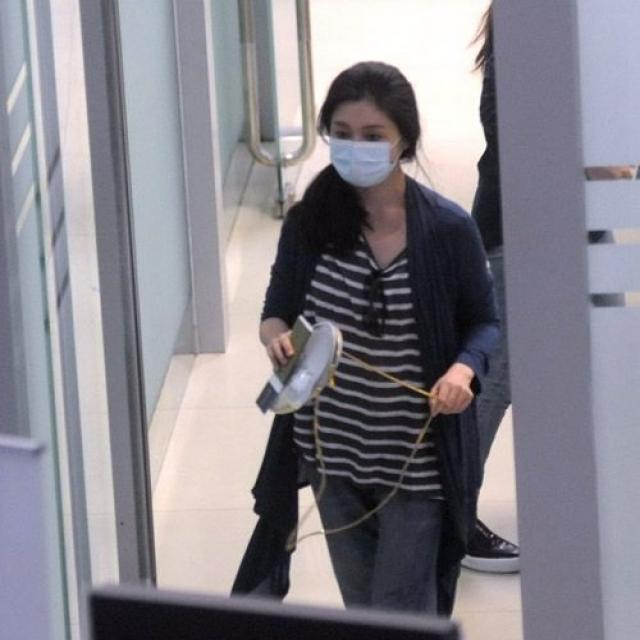mask: (327, 96, 397, 182)
